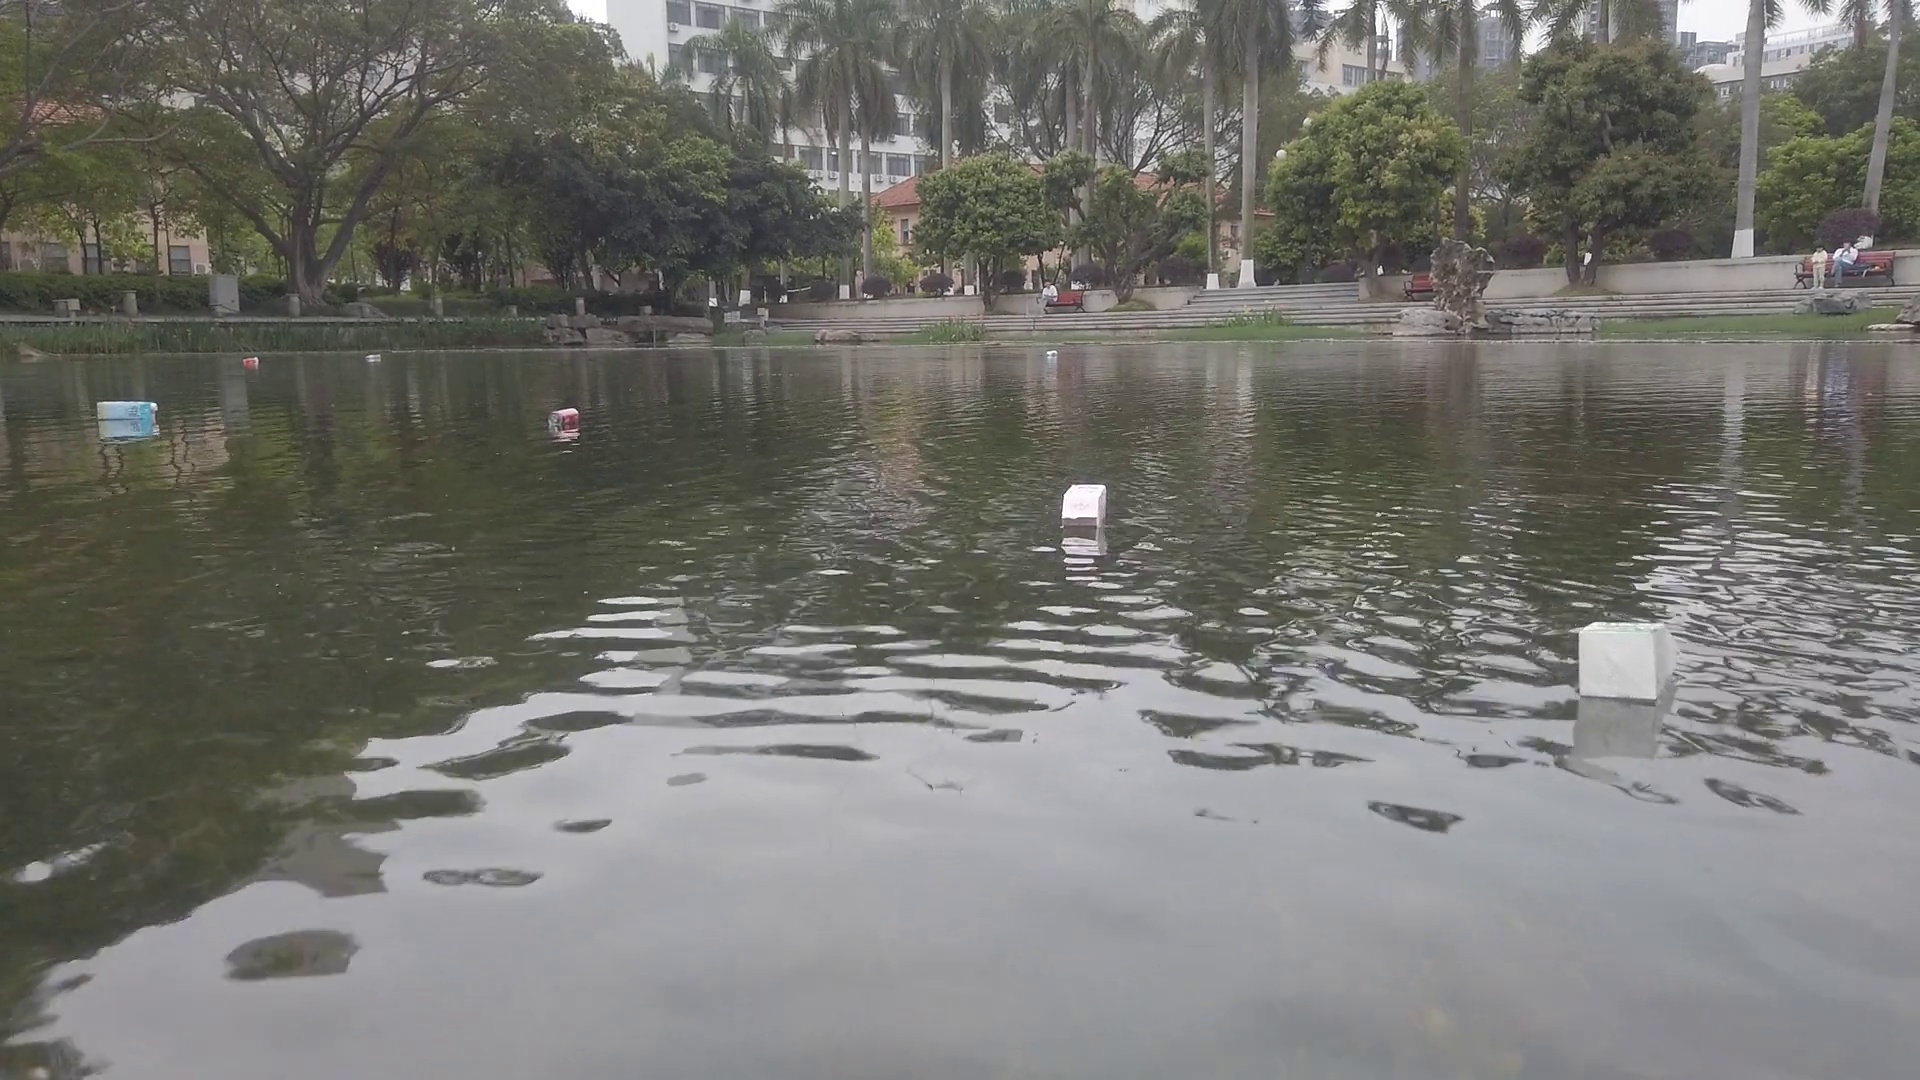bottle: (547, 407, 580, 429), (244, 355, 258, 367), (364, 353, 381, 361), (1046, 348, 1058, 357)
carton: (1578, 621, 1677, 703), (1063, 479, 1109, 534), (94, 400, 160, 425)
